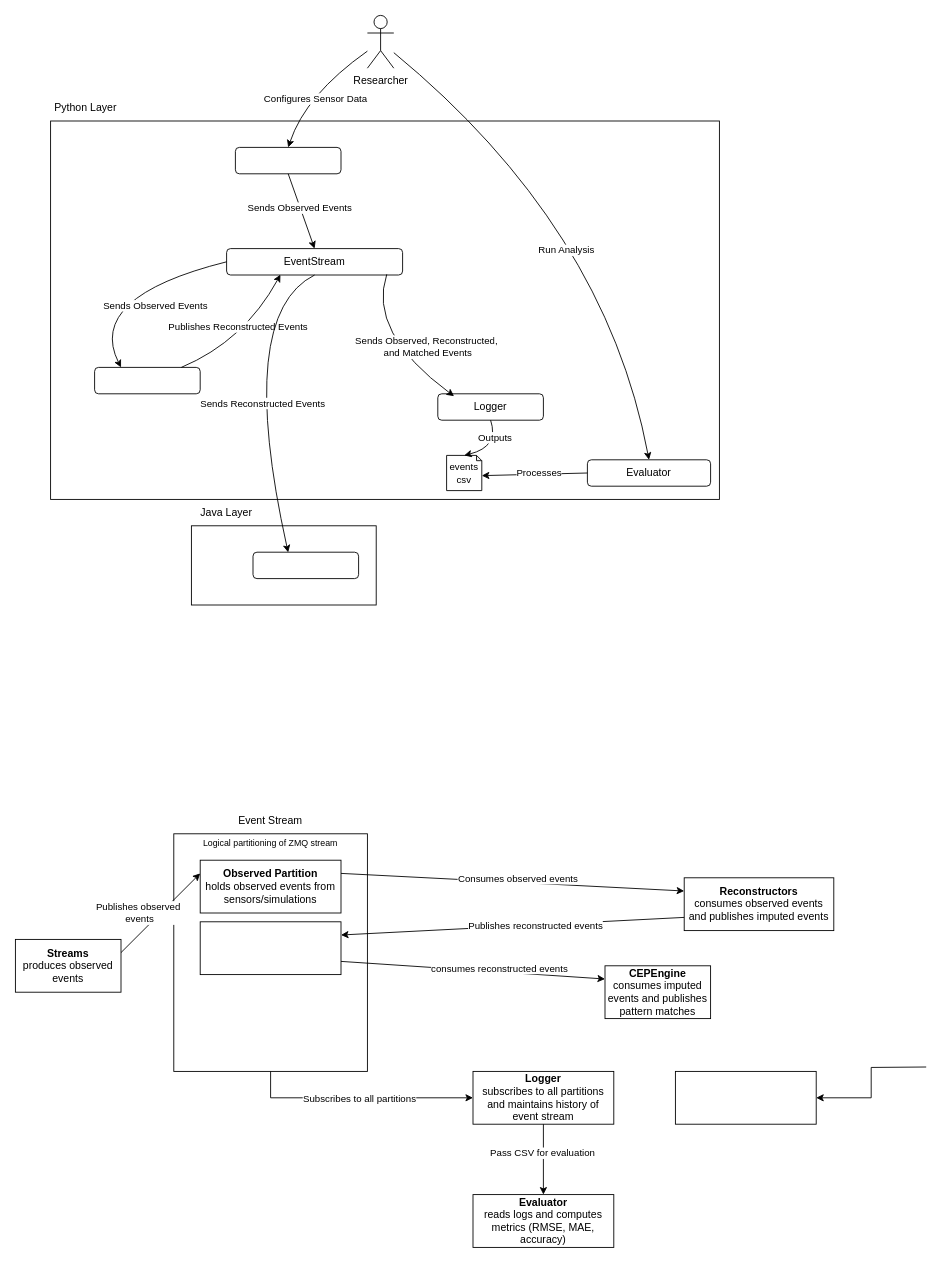
Some shapes in this 949 by 1263 pixel diagram are drawn without their labels. The centre of each missing label's shape, as x and y in pixels:
CEPEngine (Esper): the point at 305,565
EventListern subscribes to all partitions and maintains history of event stream: the point at 745,1097
Reconstruction Partition holds events with missing data filled: the point at 270,948
Reconstructors (e.g. KalmanFilter): the point at 147,380
Streams: the point at 288,160
